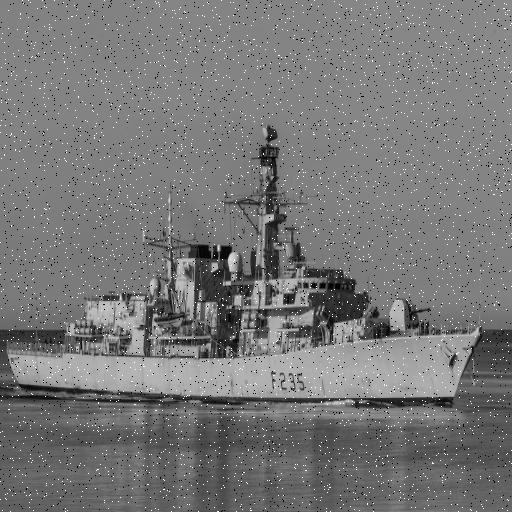Fragata: (4, 100, 486, 414)
